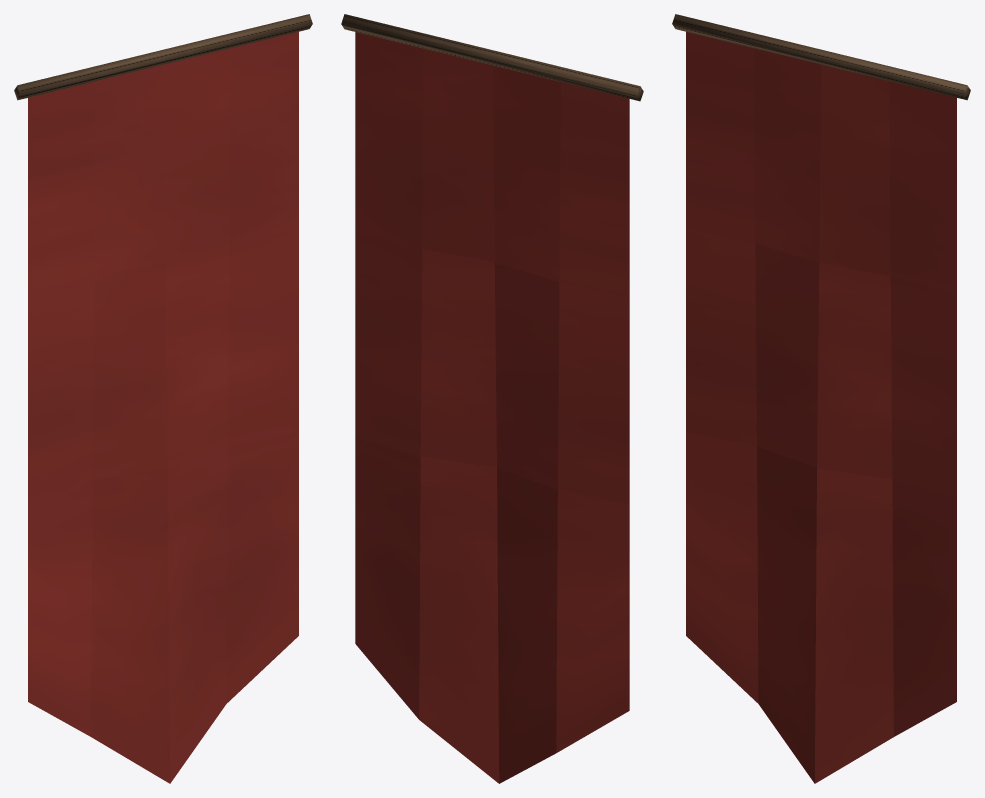
The model's file is Banner_2_Cloth_LOD1.gltf.
The picture shows the model from 3 angles, left to right: view 1: azimuth 30°, elevation 25°; view 2: azimuth 150°, elevation 25°; view 3: azimuth 330°, elevation 25°; orthographic projection.
Visible parts, largest first — view 1: Banner_2_Cloth_LOD1; view 2: Banner_2_Cloth_LOD1; view 3: Banner_2_Cloth_LOD1.
Part boxes in pixels (x1,y1,x2,y2): Banner_2_Cloth_LOD1: (14,14,312,783); Banner_2_Cloth_LOD1: (341,14,643,783); Banner_2_Cloth_LOD1: (672,14,970,783).
Size of the model in its own units: 0.81 by 1.93 by 0.0546.
2 materials, 2 textured.
